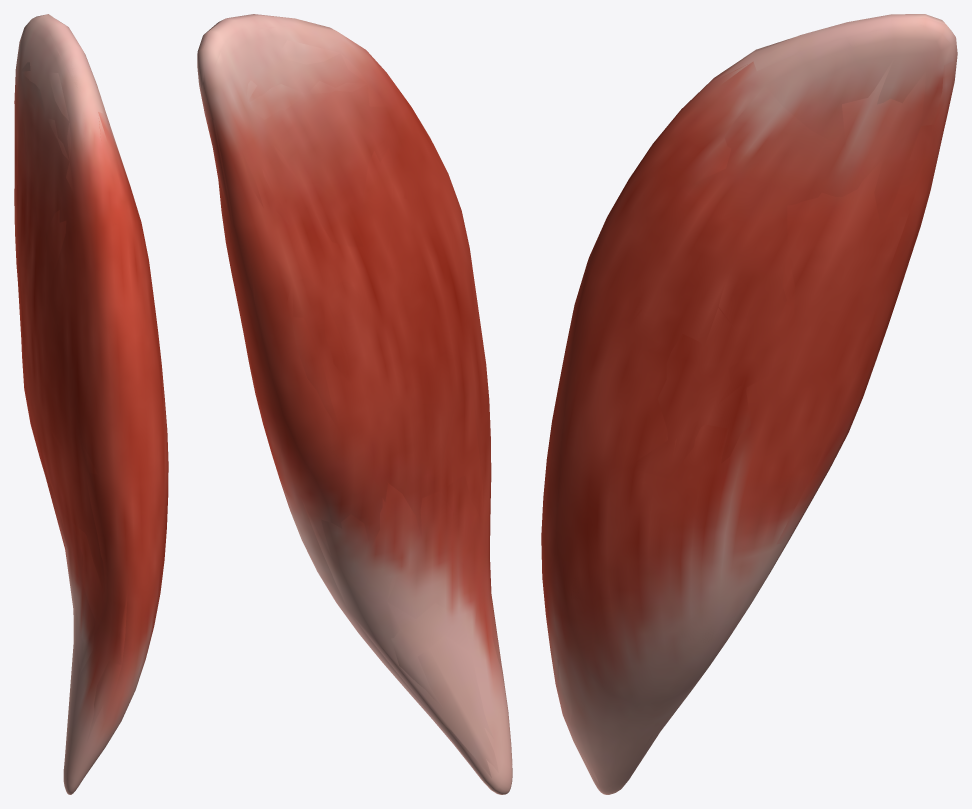
The model's file is R Gracillis.fbx.
The picture shows the model from 3 angles, left to right: view 1: azimuth 30°, elevation 25°; view 2: azimuth 150°, elevation 25°; view 3: azimuth 270°, elevation 25°; orthographic projection. The views are drawn at different scales.
Visible parts, largest first — view 1: R Gracillis, R Gracillis low; view 2: R Gracillis, R Gracillis low; view 3: R Gracillis, R Gracillis low.
Part boxes in pixels (<box>): R Gracillis: <box>14,14,168,794</box>; R Gracillis low: <box>14,18,168,772</box>; R Gracillis: <box>197,14,512,794</box>; R Gracillis low: <box>198,15,507,780</box>; R Gracillis: <box>541,14,957,794</box>; R Gracillis low: <box>546,15,955,791</box>.
Bounding box in the file's own units: 8.21 × 42.38 × 19.
